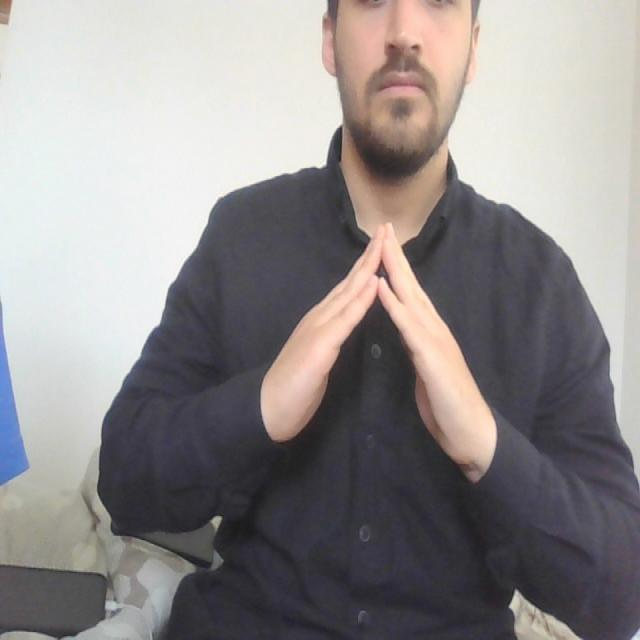Ev: (258, 218, 503, 486)
